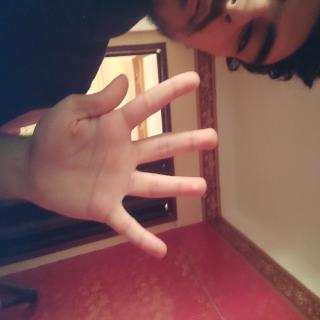SHEEN: (50, 127, 203, 320)
